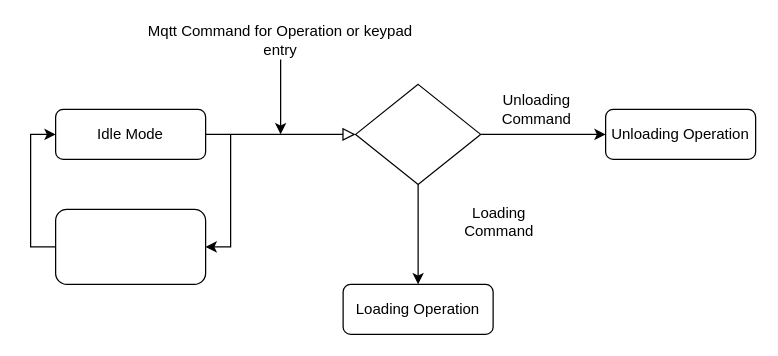
The diagram is 778 pixels wide and 356 high, and some of its shapes have lost their labels. Here are the shapes that lost their labels. From the top down, the centre of each, then its label:
At (417,133): "Non Idle Mode".
At (130,246): "Round Robin".
